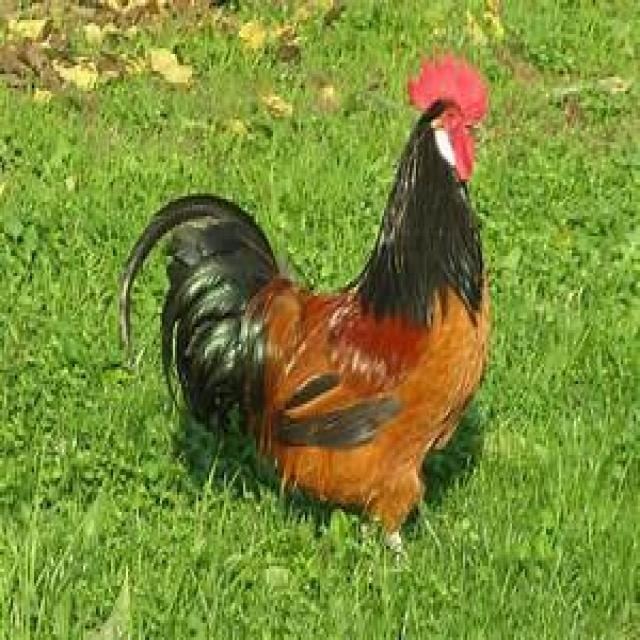hen: (121, 55, 488, 542)
